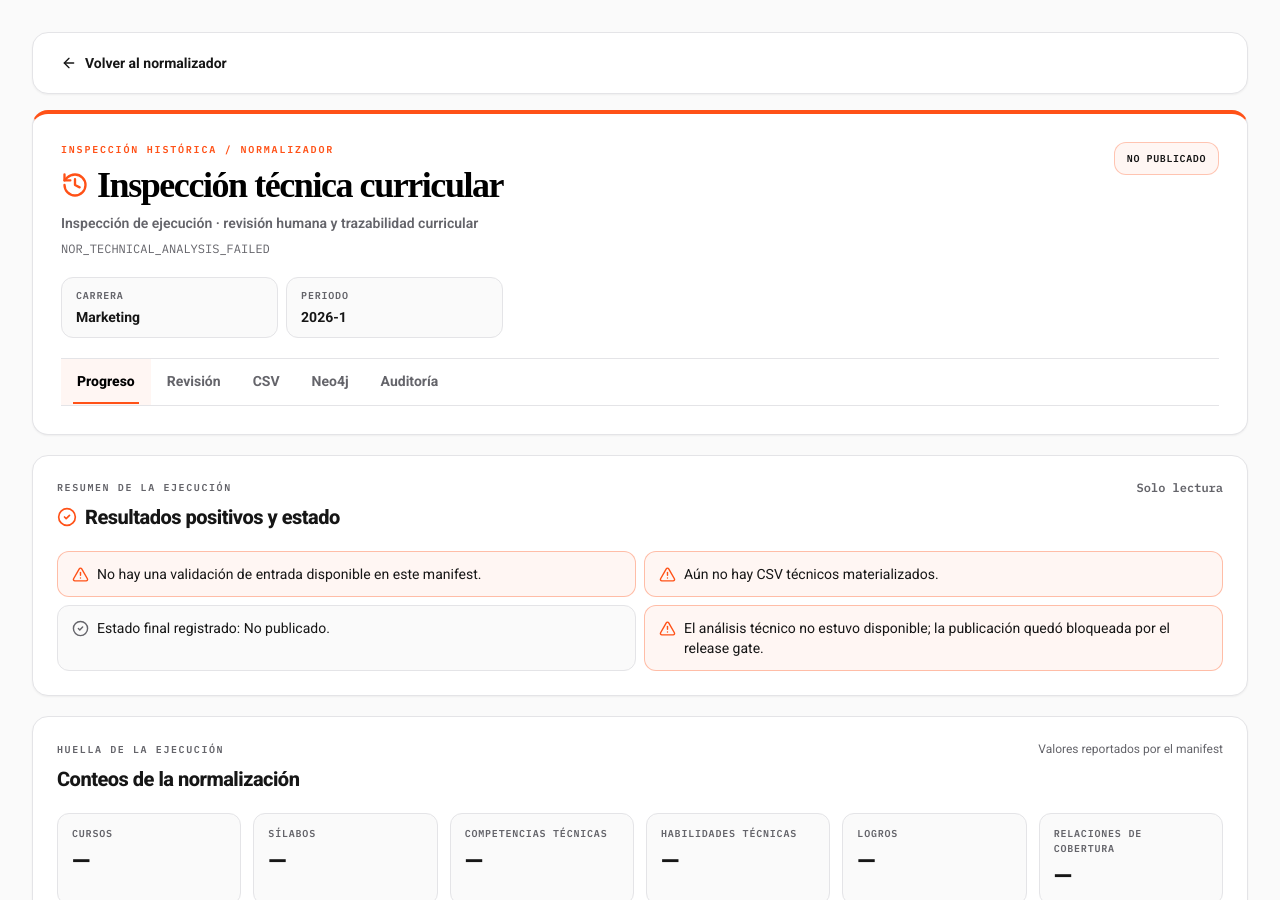
Test: inspección de ejecución normalizada › explica el bloqueo técnico sin inventar decisiones humanas pendientes
Expected: the text "El análisis técnico no estuvo disponible; la publicación quedó bloqueada por el release gate." is shown, [684, 620, 1170, 656]
Click the tab "Revisión": (194, 382) [151, 359, 237, 405]
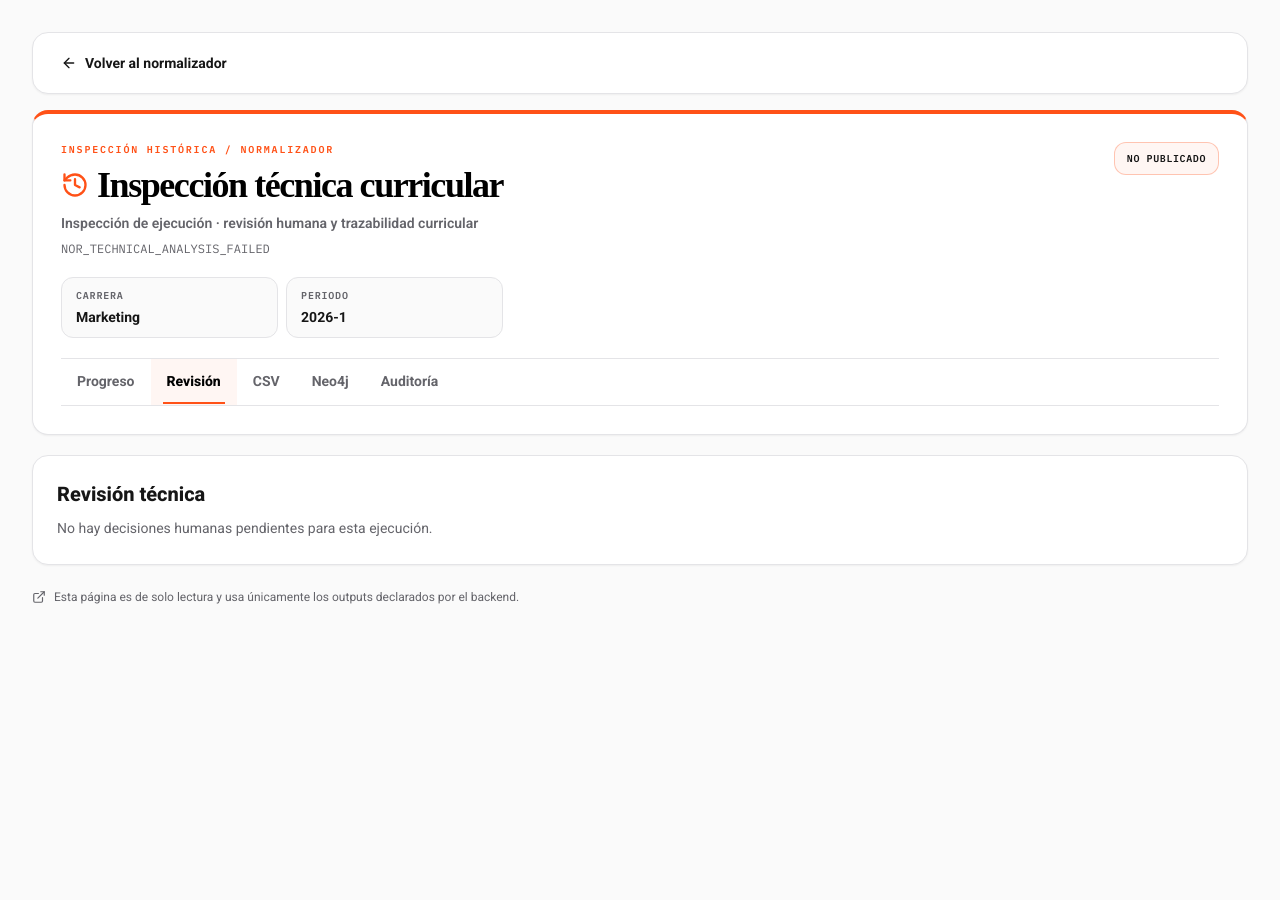
Expected: the text "No hay decisiones humanas pendientes para esta ejecución." is shown, [57, 520, 433, 536]
